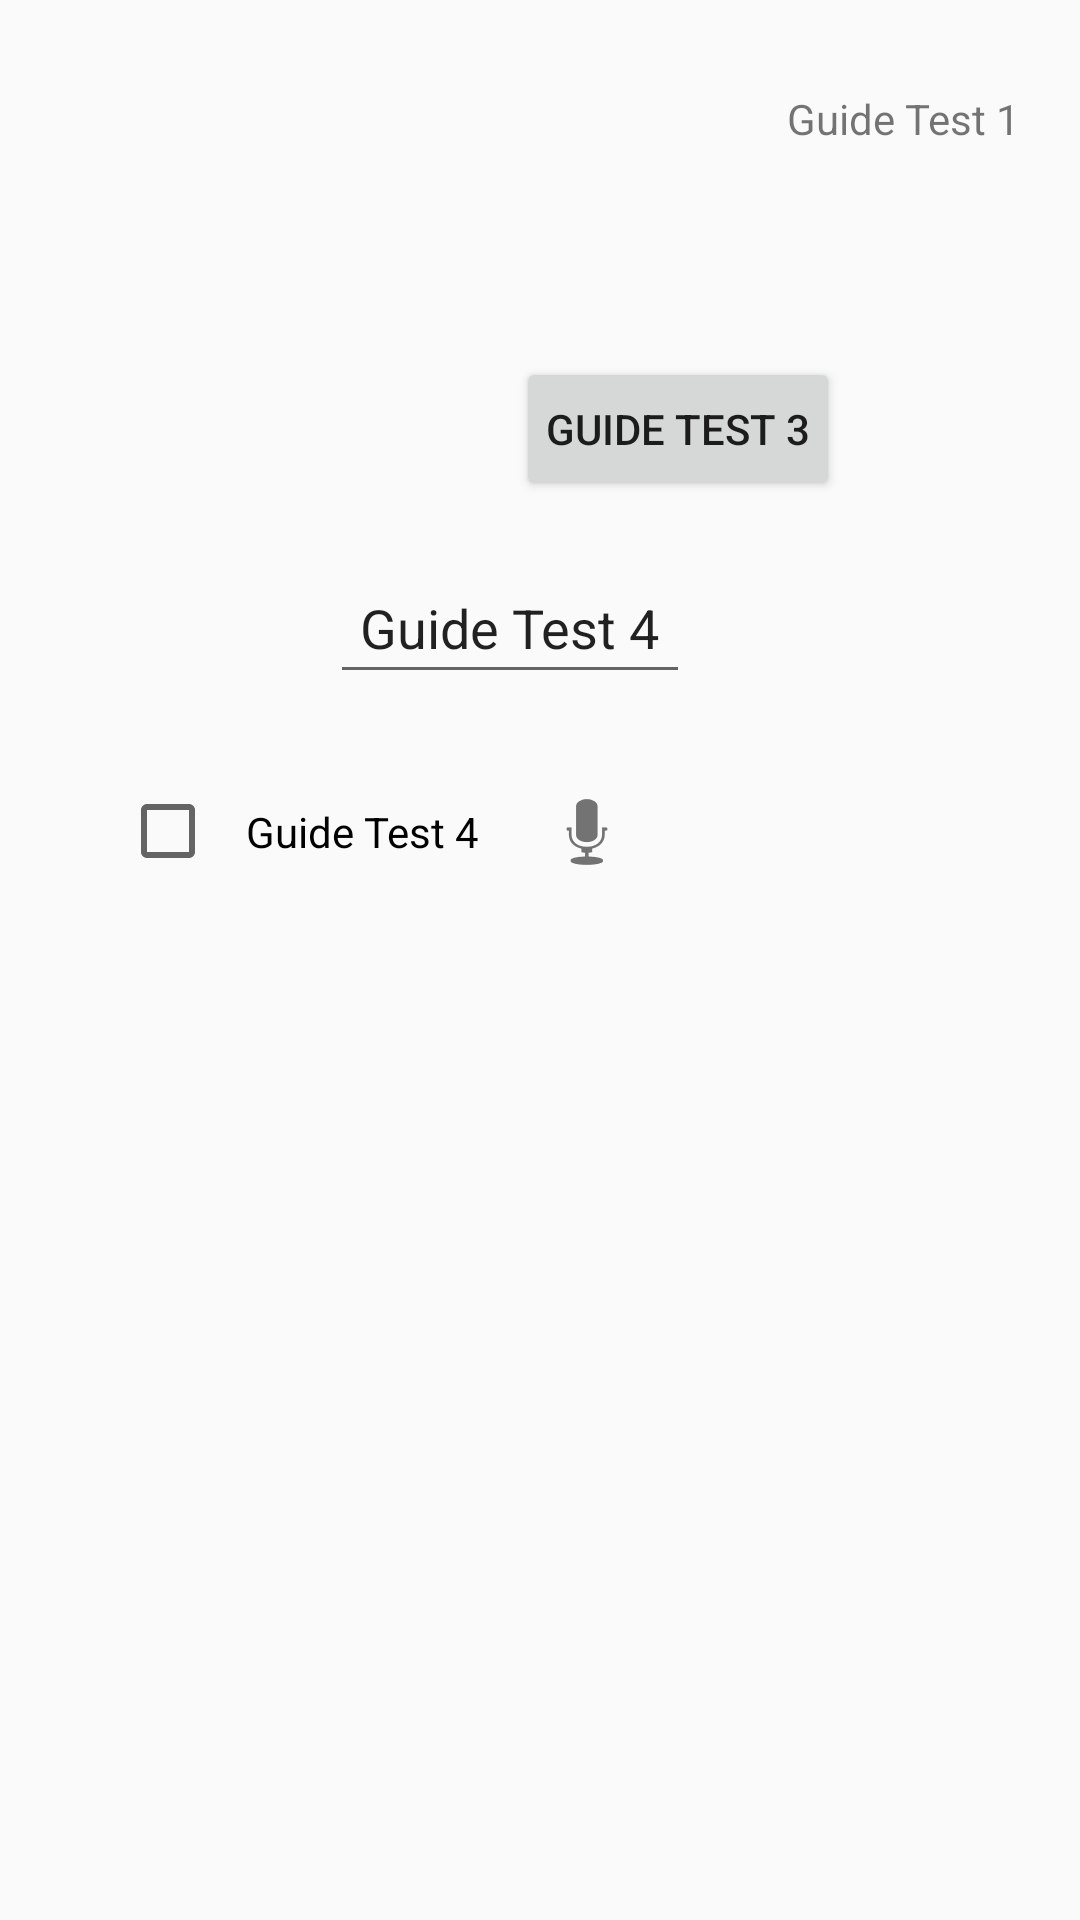

Where to tap for icons on this 1080×1920 app screen, as [x,y]:
speak now: [587,832]
